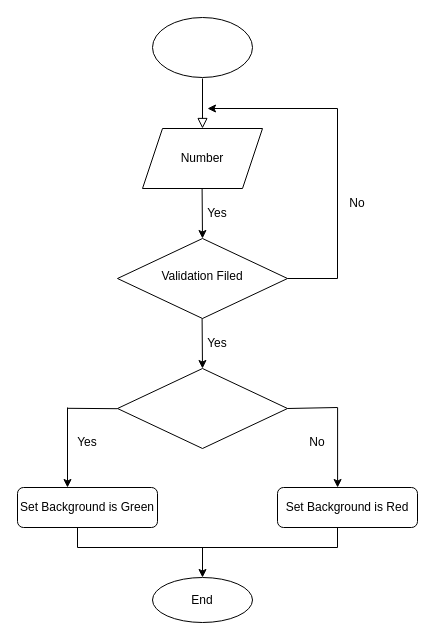
Some shapes in this 435 by 640 pixel diagram are drawn without their labels. The box of each missing label's shape, as (x1, y1, x2, y2) in pixels:
Start: (152, 16, 252, 78)
Validation Cardinal Number: (116, 368, 288, 448)
